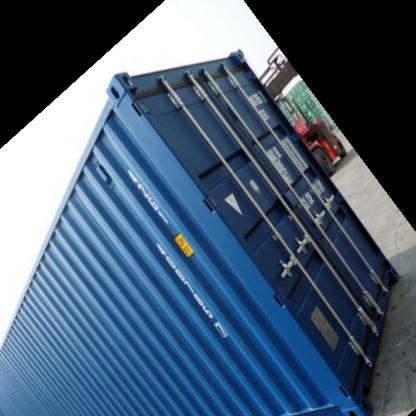Damage: (128, 78, 193, 101)
